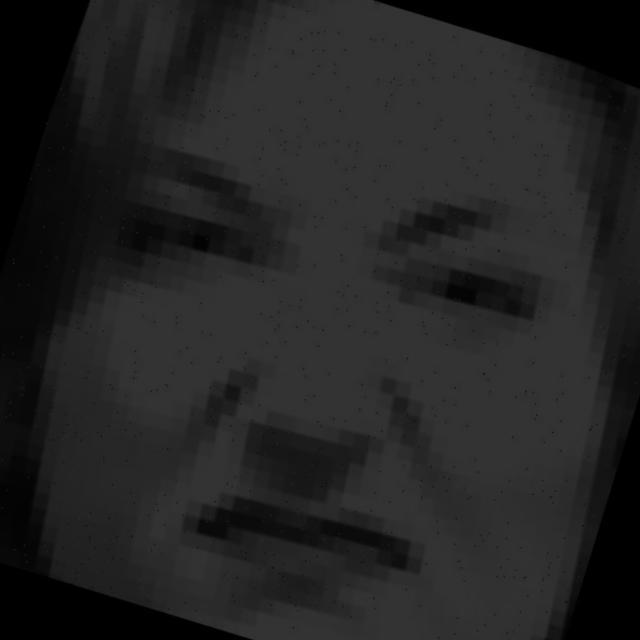Disgust: (46, 79, 625, 640)
